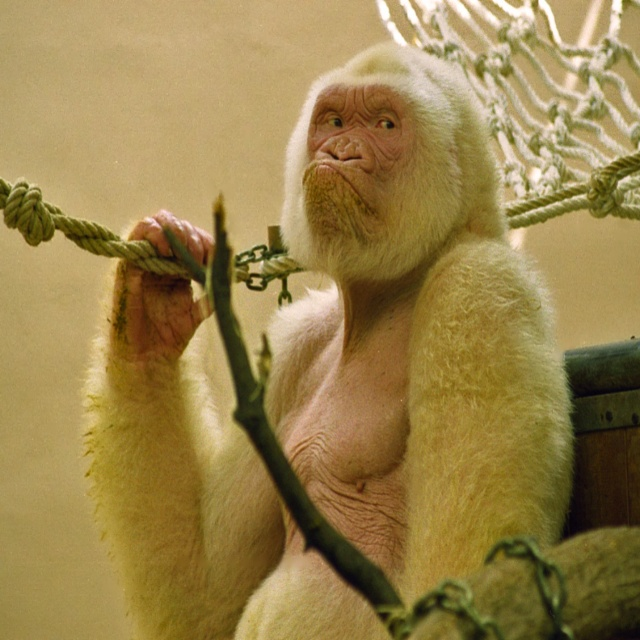Monkey: (76, 35, 575, 639)
